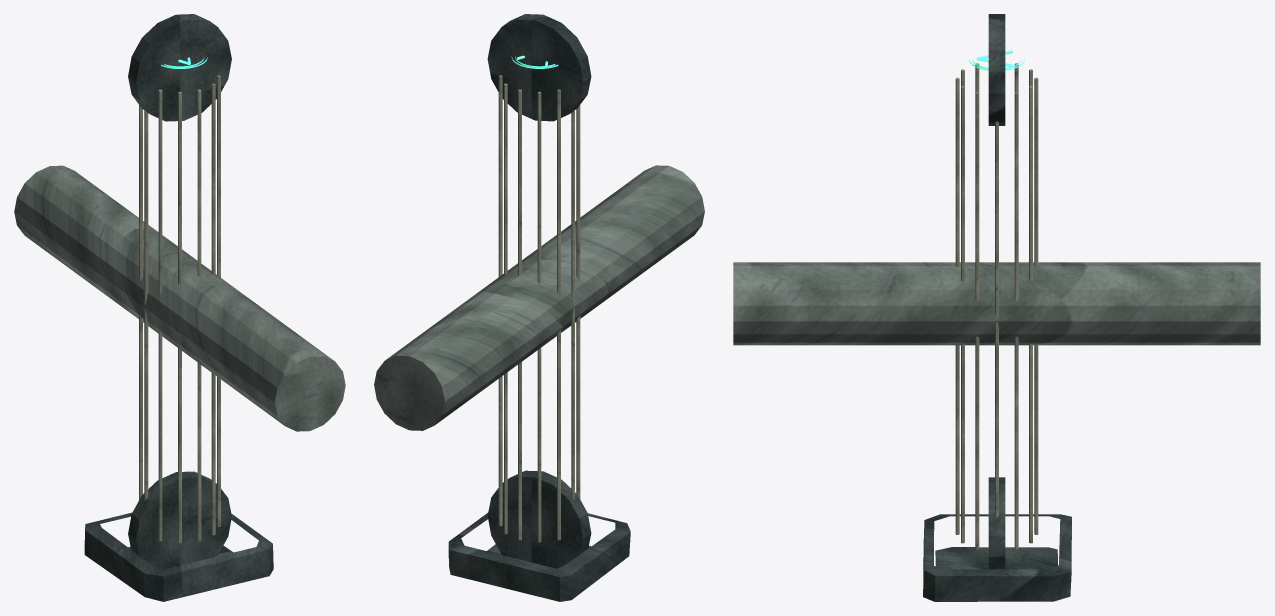
The model's file is 0279_fluted_column_04.glb.
3 renders of one model, left to right at view 1: azimuth 30°, elevation 25°; view 2: azimuth 150°, elevation 25°; view 3: azimuth 270°, elevation 25°, orthographic.
Parts seen in each view (by area): view 1: stone, stone_dark, stone_light; view 2: stone, stone_dark, stone_light; view 3: stone, stone_light, stone_dark.
Part boxes in pixels (x1,y1,x2,y2): stone: [14, 165, 345, 431]; stone_dark: [84, 14, 273, 601]; stone_light: [139, 75, 220, 543]; stone: [374, 165, 704, 430]; stone_dark: [448, 14, 630, 601]; stone_light: [498, 75, 580, 542]; stone: [733, 262, 1260, 345]; stone_light: [955, 63, 1038, 549]; stone_dark: [923, 14, 1071, 601].
Bounding box in the file's own units: 1.26 × 5.31 × 4.5.
4 materials, 4 textured.
